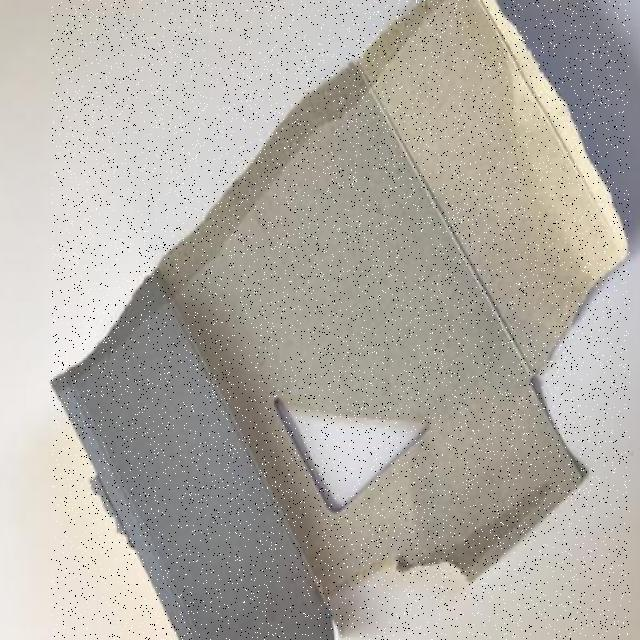paper: (51, 0, 630, 640)
